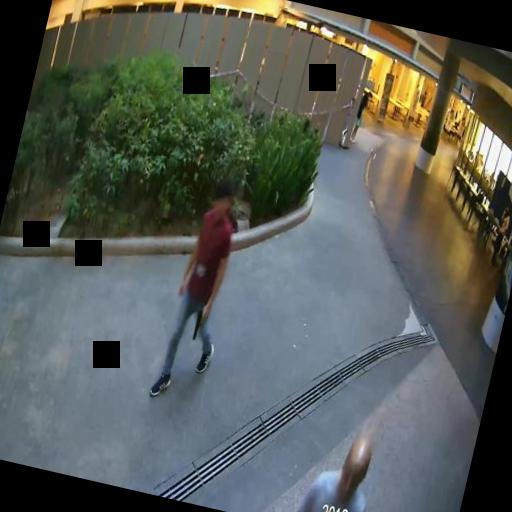Handgun: (190, 304, 210, 341)
